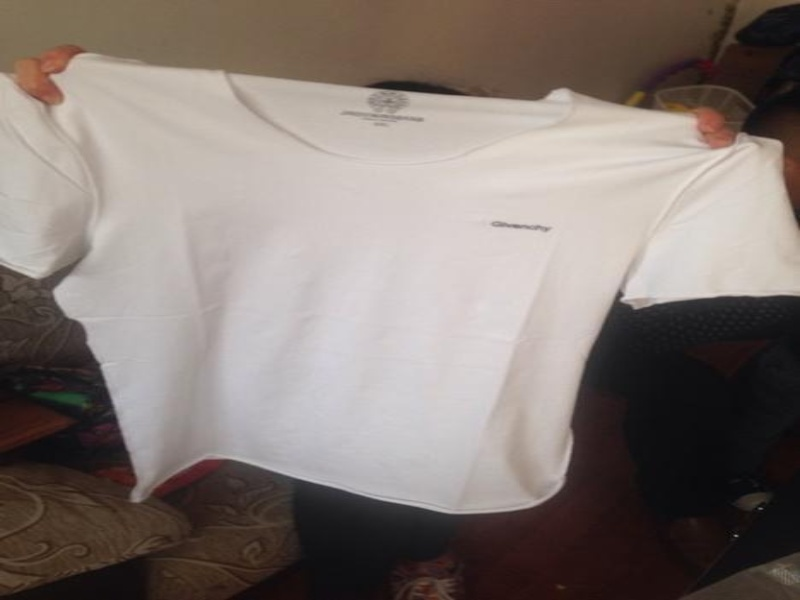short_sleeved_shirt: (2, 54, 798, 516)
